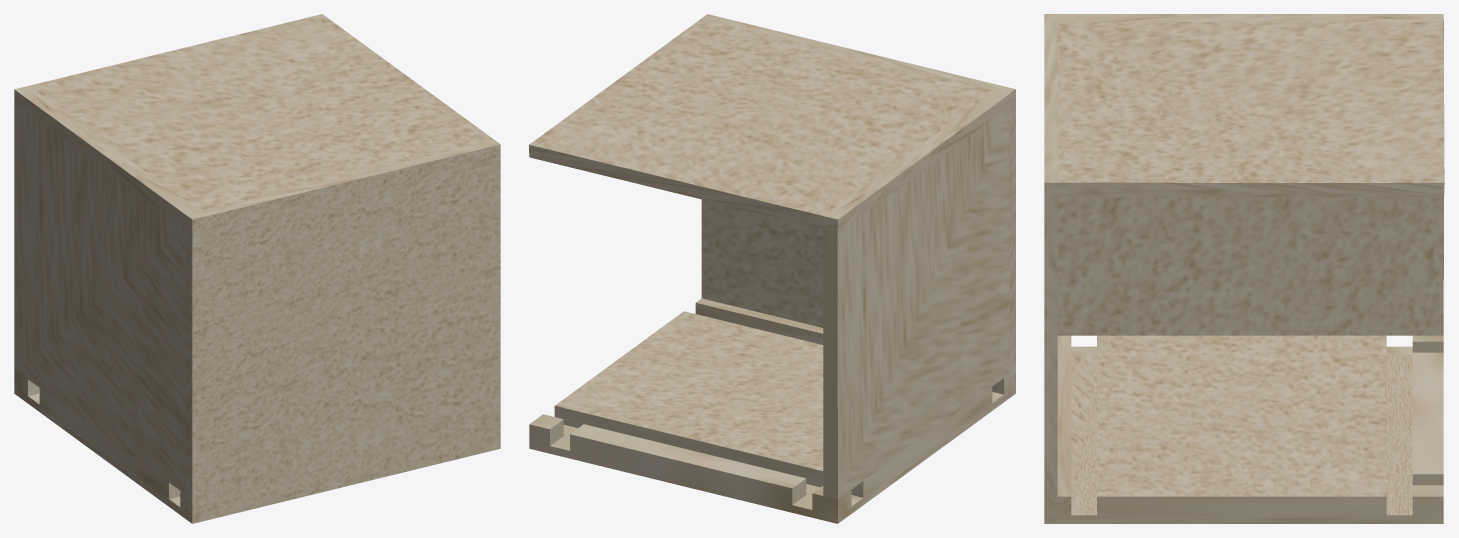
The model's file is CorBox.gltf.
3 renders of one model, left to right at view 1: azimuth 30°, elevation 25°; view 2: azimuth 150°, elevation 25°; view 3: azimuth 270°, elevation 25°, orthographic. The views are drawn at different scales.
Parts seen in each view (by area): view 1: Cube.001; view 2: Cube.001; view 3: Cube.001.
Part boxes in pixels (bbox=[...]): Cube.001: bbox=[14, 14, 500, 523]; Cube.001: bbox=[529, 14, 1015, 523]; Cube.001: bbox=[1044, 14, 1444, 523].
Size of the model in its own units: 8 by 7.55 by 8.02.
1 material, 1 textured.
